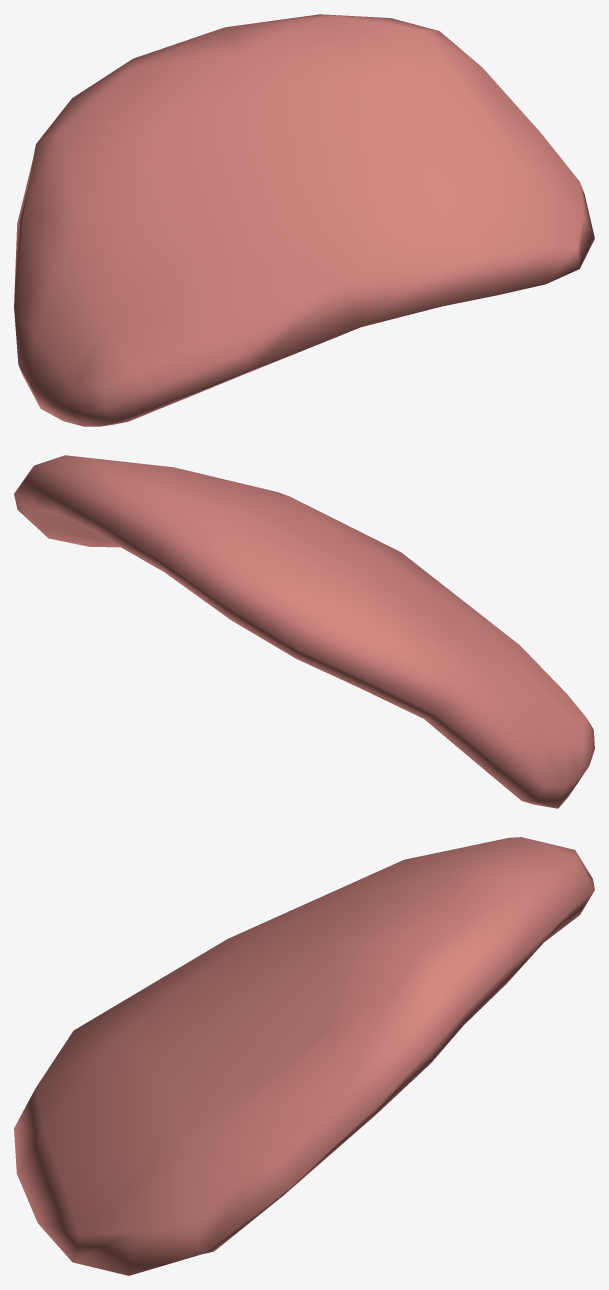
3 views of the same model, one above another, from view 1: azimuth 30°, elevation 25°; view 2: azimuth 150°, elevation 25°; view 3: azimuth 270°, elevation 25° (orthographic). The views are drawn at different scales.
Visible parts, largest first — view 1: ZA_36679ee3db3d9dd7; view 2: ZA_36679ee3db3d9dd7; view 3: ZA_36679ee3db3d9dd7.
Part boxes in pixels (x1=…): ZA_36679ee3db3d9dd7: x1=14, y1=14, x2=594, y2=426; ZA_36679ee3db3d9dd7: x1=14, y1=455, x2=594, y2=808; ZA_36679ee3db3d9dd7: x1=14, y1=837, x2=594, y2=1275.
Size of the model in its own units: 0.00513 by 0.00252 by 0.00345.
